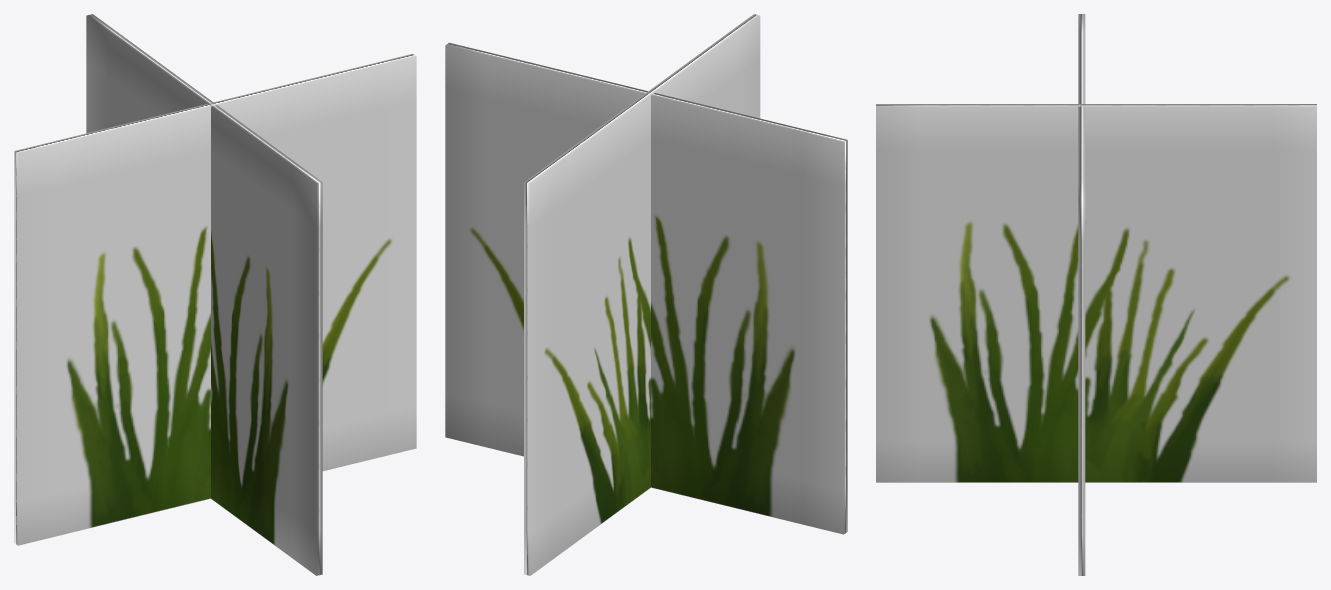
File: grass.fbx
3 views of the same model, side by side, from view 1: azimuth 30°, elevation 25°; view 2: azimuth 150°, elevation 25°; view 3: azimuth 270°, elevation 25° (orthographic). The views are drawn at different scales.
Parts seen in each view (by area): view 1: grass; view 2: grass; view 3: grass.
Part boxes in pixels (<box>): grass: <box>14,14,416,575</box>; grass: <box>445,14,847,575</box>; grass: <box>876,14,1316,575</box>.
Size of the model in its own units: 32.33 by 30.4 by 32.33.
